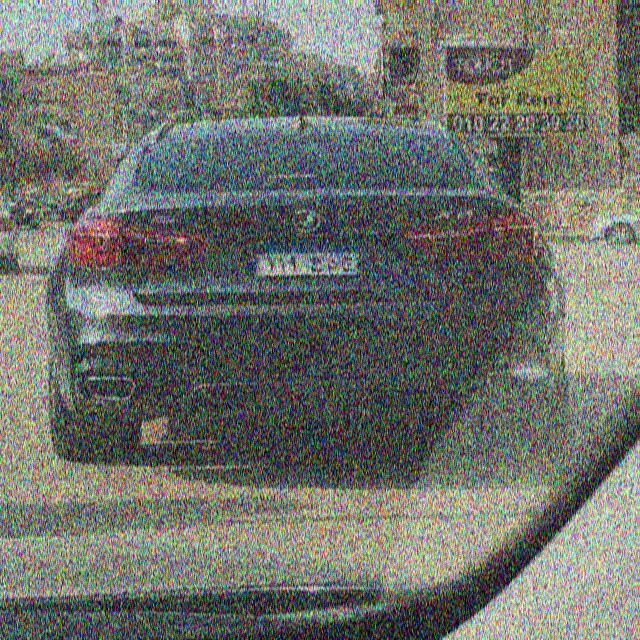License Plate: (255, 239, 361, 277)
